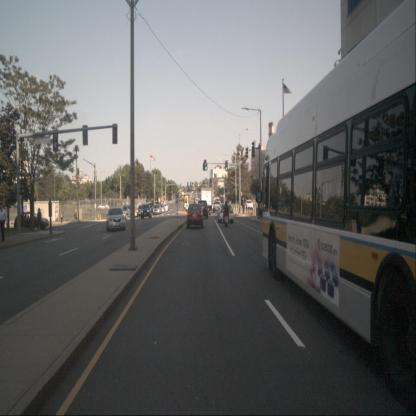human-pedestrian-adult: (0, 205, 8, 242), (37, 208, 42, 232), (242, 200, 245, 214)
movable_object-trafficcone: (99, 212, 102, 221), (98, 212, 100, 221)
vehicle-bus-rigid: (261, 0, 415, 406)
vehicle-car: (13, 211, 49, 232), (106, 207, 126, 232), (187, 204, 203, 228), (218, 204, 234, 224), (120, 205, 134, 220), (140, 204, 152, 219), (198, 201, 208, 219), (217, 204, 227, 217), (136, 205, 145, 217), (153, 204, 162, 215), (213, 201, 221, 213), (98, 203, 109, 210), (246, 200, 253, 210), (158, 204, 165, 214), (162, 203, 168, 212), (148, 203, 154, 212)
vehicle-motorcycle: (221, 200, 231, 227)
vehicle-truck: (201, 188, 212, 215)
